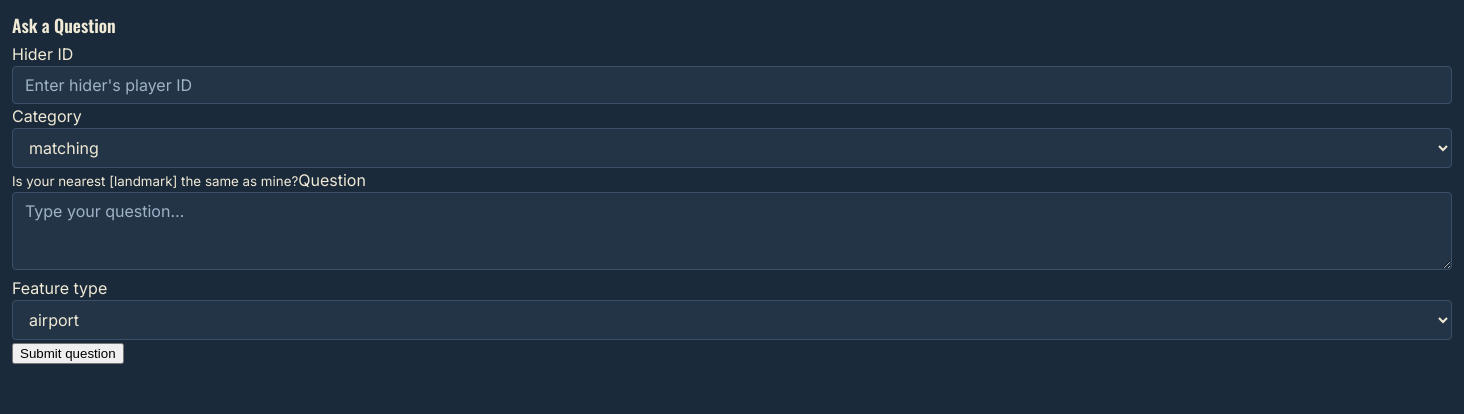
Test: QuestionPanel › shows error when submitting with empty hider ID
This screenshot has width=1464, height=414.
Click the button "Submit question" at (68, 354), box [12,343,124,364]
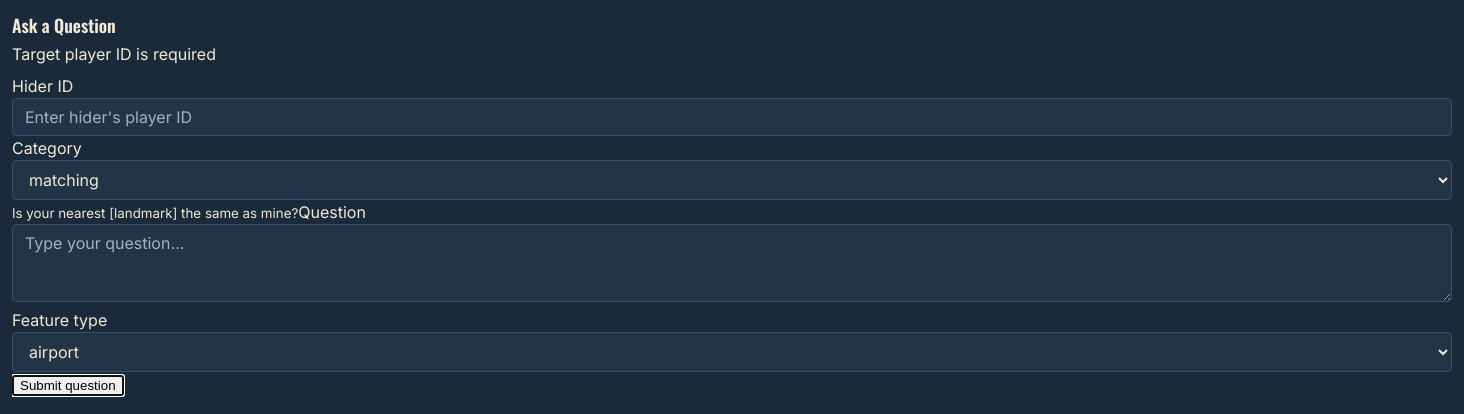
Expected: the message reads "Target player ID is required", [12,44,216,64]
